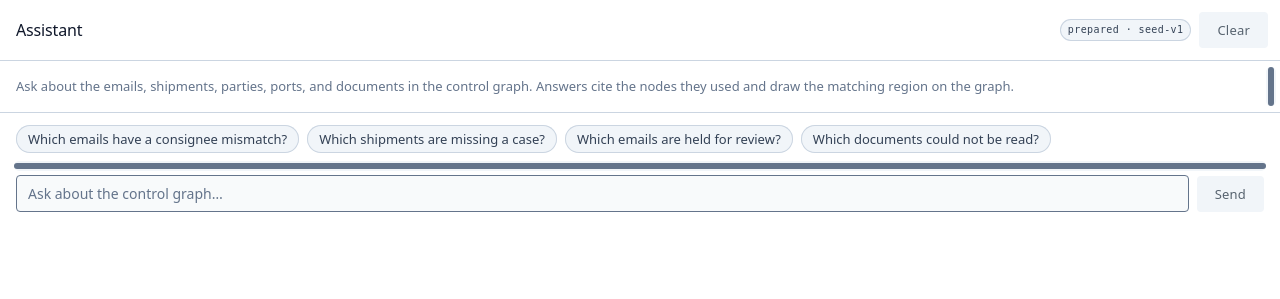
Test: GraphChatPanel › reports the answer, maps the highlight, and swaps the drawn graph to the subgraph
In the text box labelled "Ask about the control graph…": coordinates (602, 194) [16, 175, 1189, 212], type "Which emails mismatch?"
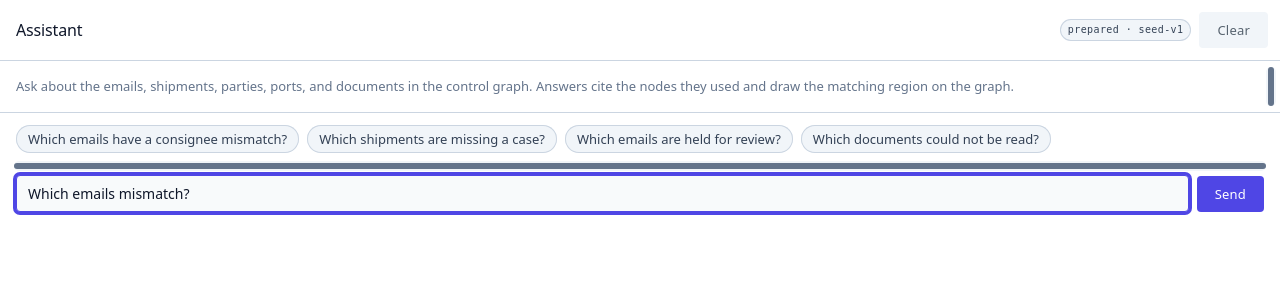
Click the button "Send": coordinates (1230, 194) [1197, 176, 1264, 212]
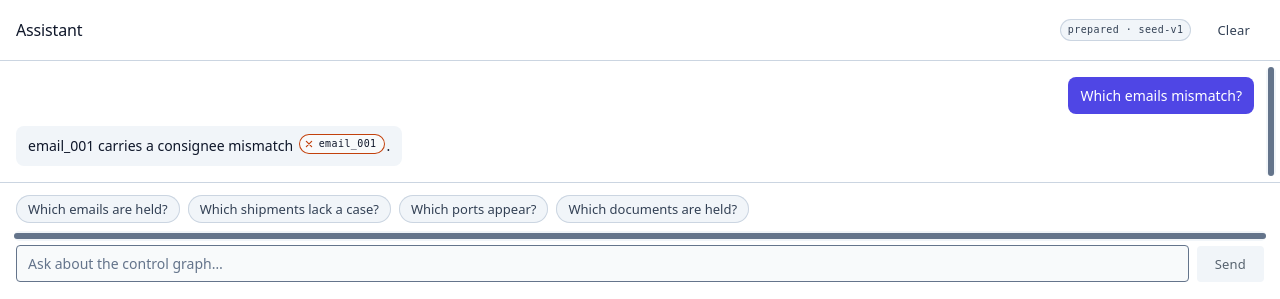
expect the text "email_001 carries a consignee mismatch email_001 ." is shown: met, box [28, 134, 390, 158]
